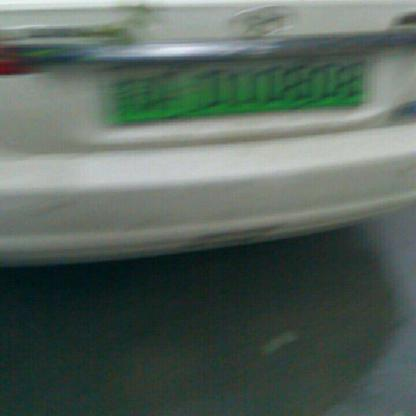lp: (103, 57, 364, 122)
